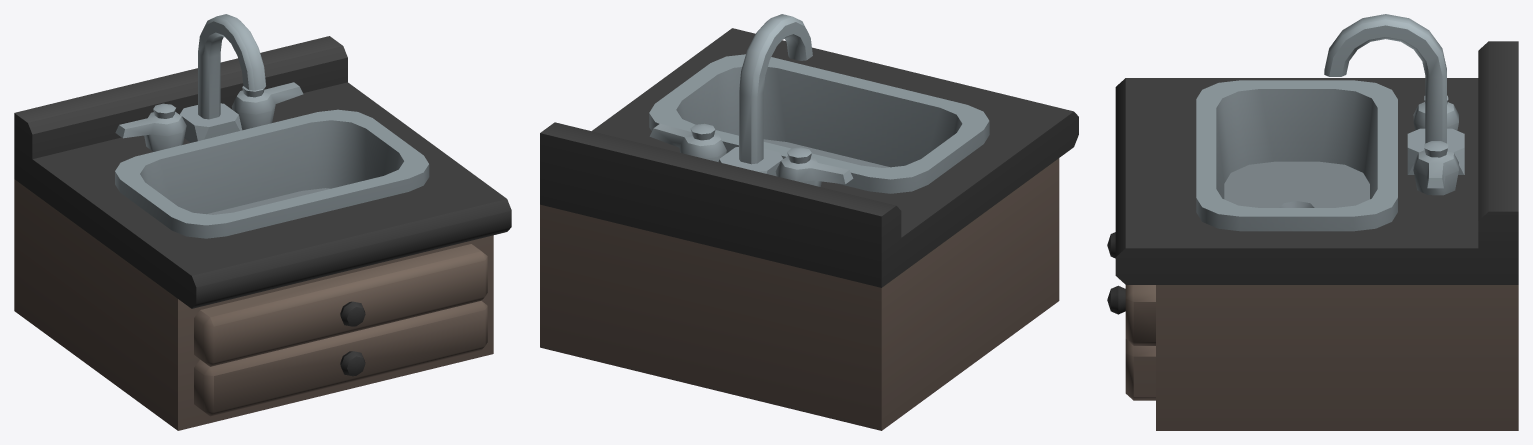
The model's file is kitchencounter_sink_backsplash_styleB.obj.
3 views of the same model, side by side, from view 1: azimuth 30°, elevation 25°; view 2: azimuth 150°, elevation 25°; view 3: azimuth 270°, elevation 25° (orthographic). The views are drawn at different scales.
Visible parts, largest first — view 1: kitchencounter_sink_backsplash_styleB_Cube.007; view 2: kitchencounter_sink_backsplash_styleB_Cube.007; view 3: kitchencounter_sink_backsplash_styleB_Cube.007.
Boxes of the visible parts, <box> form: kitchencounter_sink_backsplash_styleB_Cube.007: <box>14,14,511,430</box>; kitchencounter_sink_backsplash_styleB_Cube.007: <box>540,14,1078,430</box>; kitchencounter_sink_backsplash_styleB_Cube.007: <box>1107,14,1518,430</box>.
Bounding box in the file's own units: 2 × 1.8 × 2.04.
Materials: 1 (1 with a texture image).
